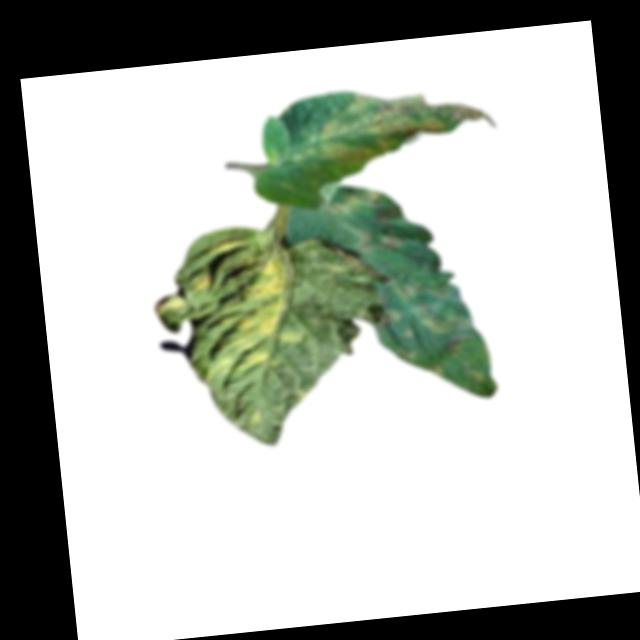Leaf_Mold: (316, 80, 498, 168), (215, 247, 305, 375), (410, 294, 472, 341), (324, 184, 386, 219), (355, 228, 409, 256), (385, 273, 423, 302), (207, 234, 249, 257), (391, 344, 417, 370), (188, 272, 212, 299), (379, 306, 405, 330)
